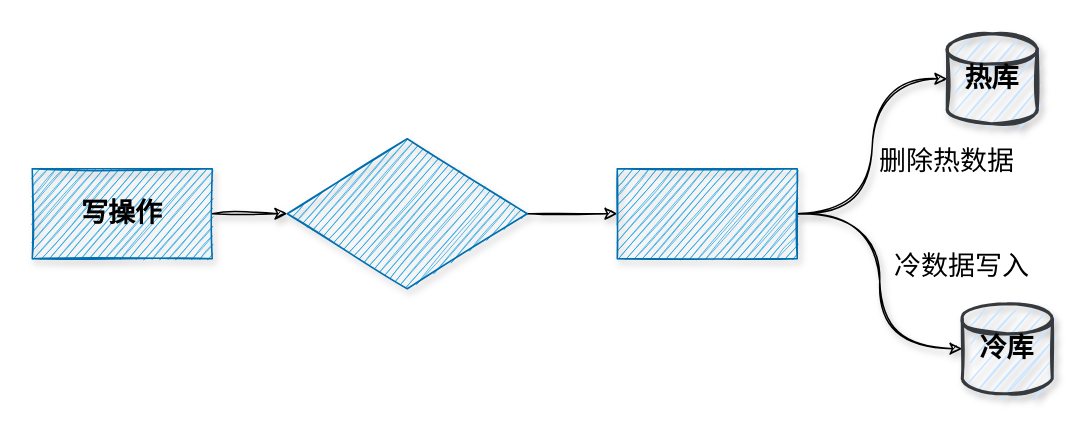
The diagram is 1089 pixels wide and 431 high, and some of its shapes have lost their labels. Here are the shapes that lost their labels. From the top down, the centre of each, then its label:
At point 408,215: "业务代码冷热区分".
At point 708,215: "触发冷热处理".
